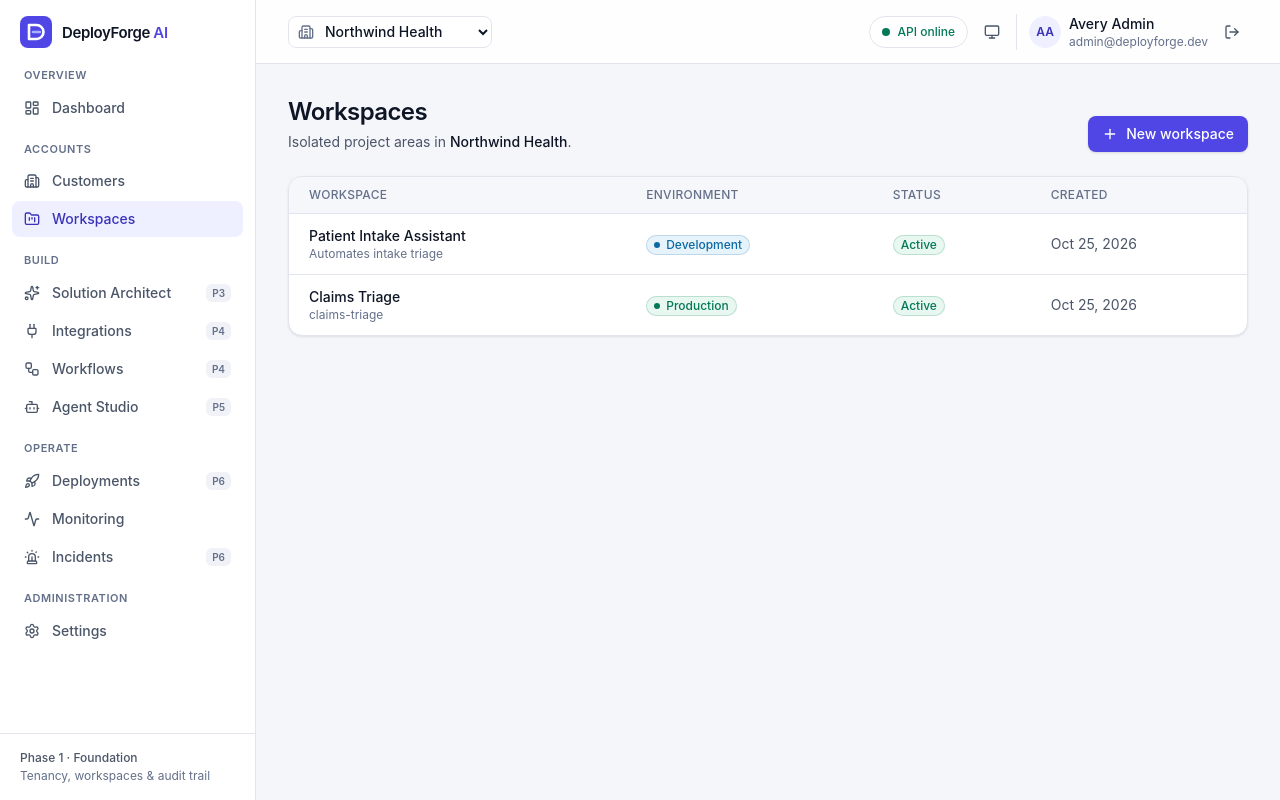
Test: WorkspacesPage › shows server-side validation errors next to the field
Click the button "New workspace" at [1168, 134], box [1088,116,1248,152]
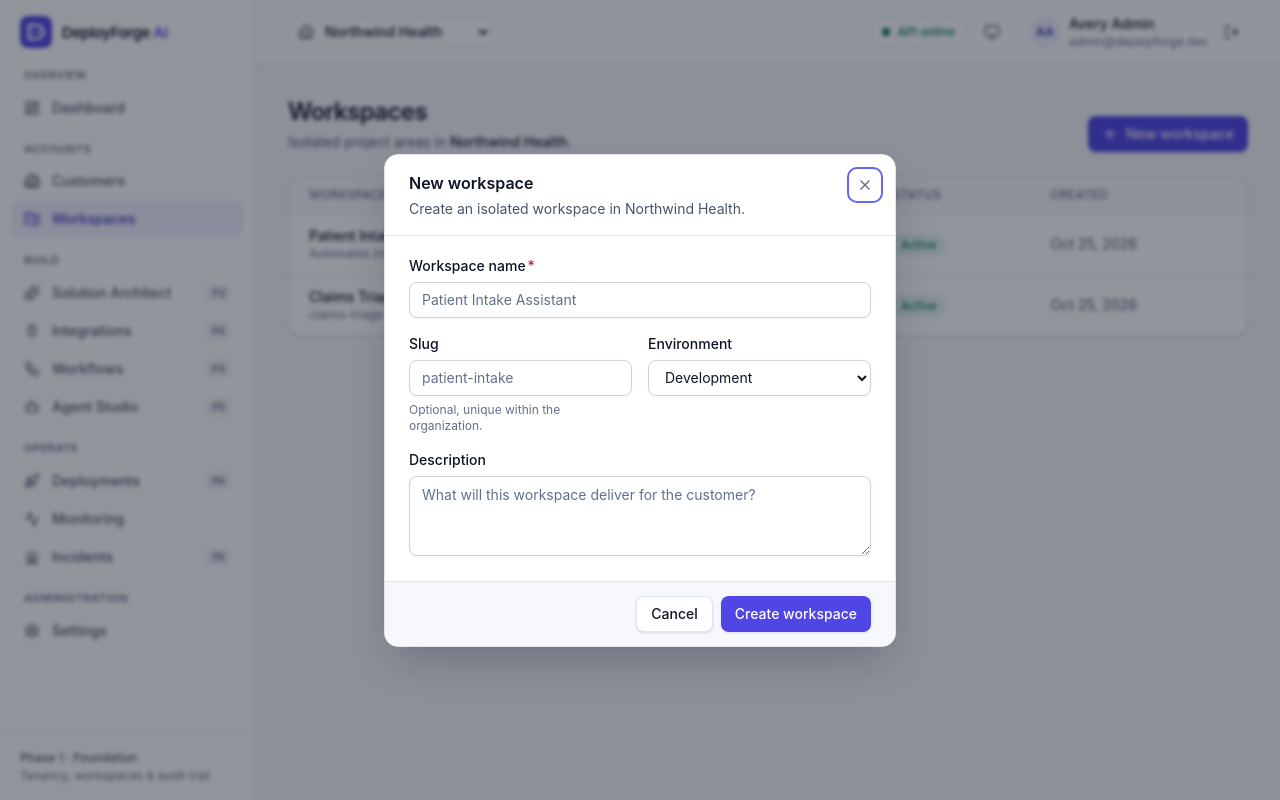
Type "X" into the field labelled "Workspace name*" at [640, 300], box [409,282,871,318]
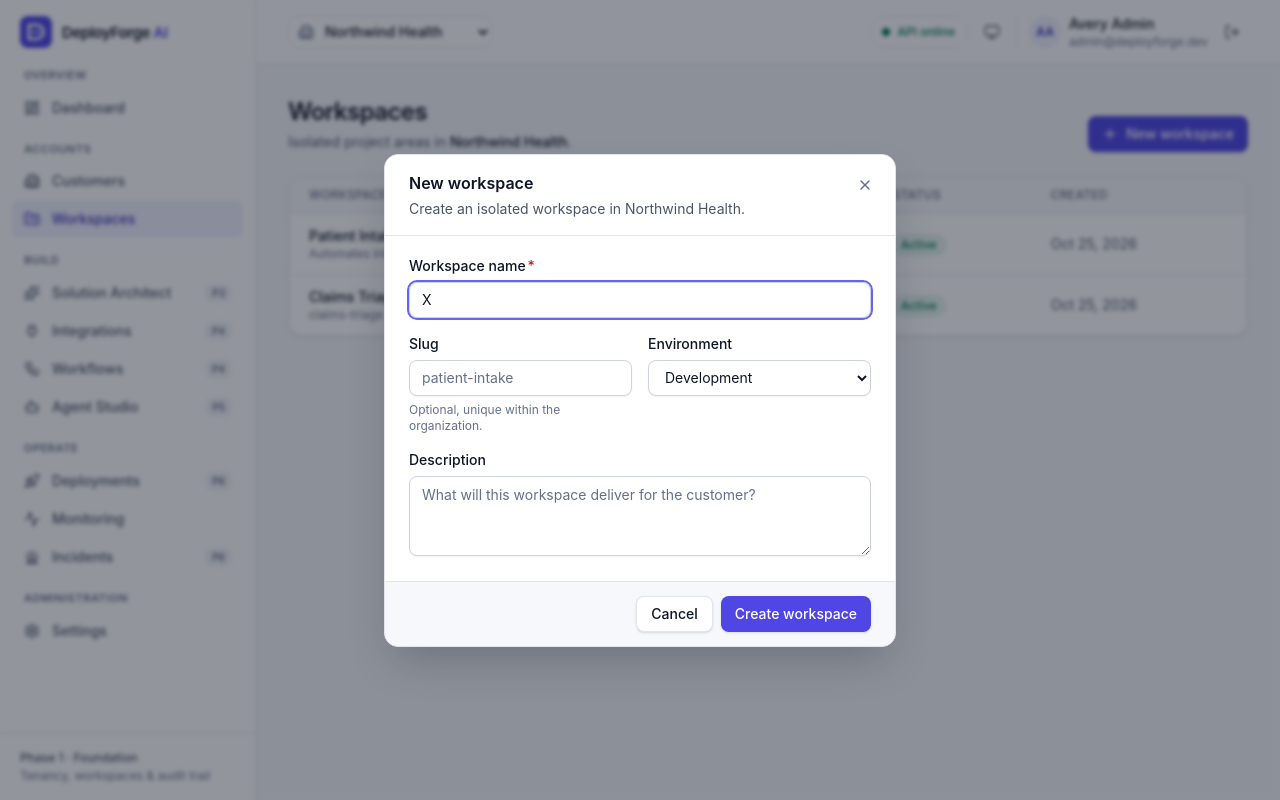
Click the button "Create workspace" at [796, 614], box [721,596,871,632]
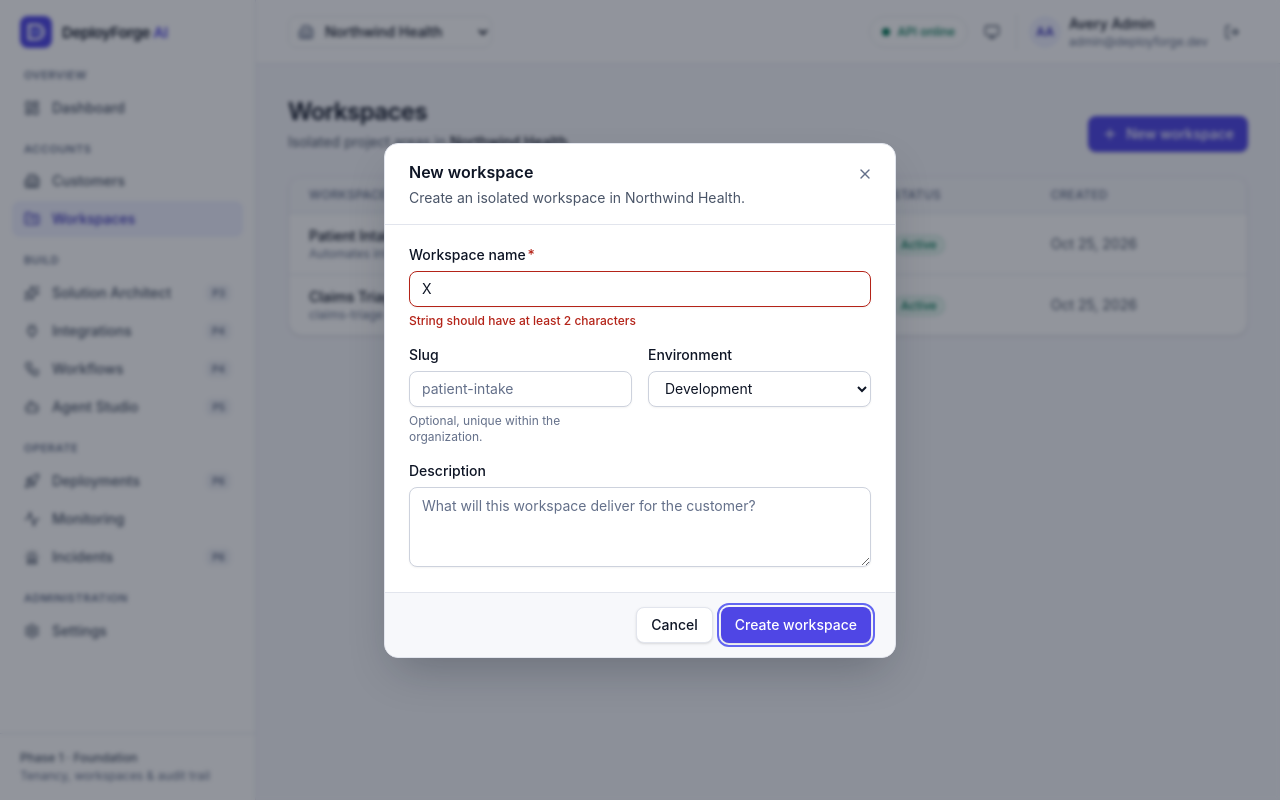
Expected: the text "String should have at least 2 characters" is shown, [409,312,636,328]
